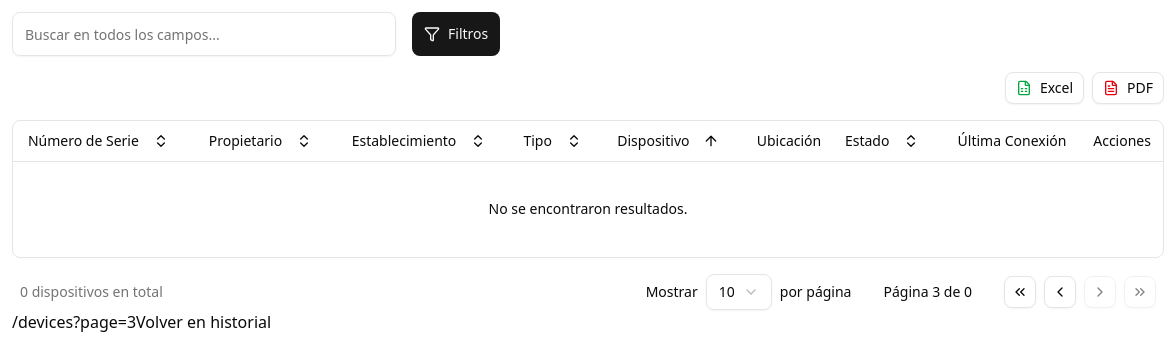
Scenario: DevicesTable responsive contract › sorts Tipo in user mode
What coordinates should you click on to do the following:
click the button "Tipo"
I would click on:
 (553, 141)
Its box is [514, 125, 592, 157].
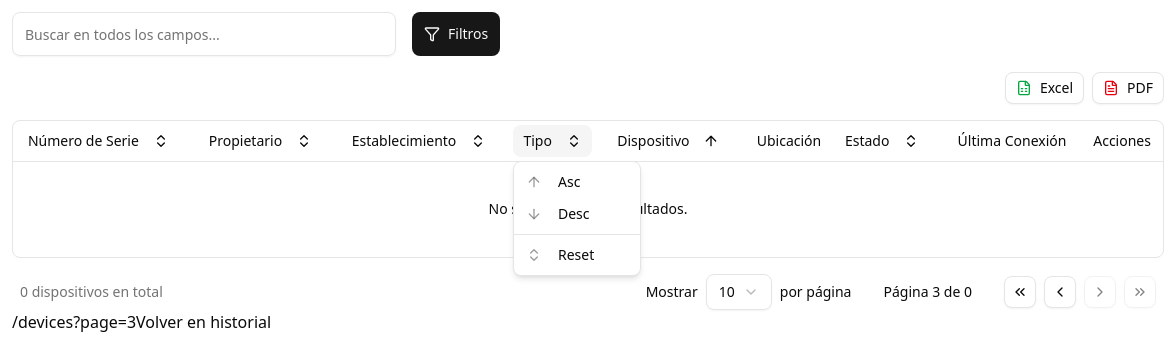
What coordinates should you click on to do the following:
click the menu item "Asc"
I would click on:
 (534, 182)
Its box is [526, 172, 580, 191].
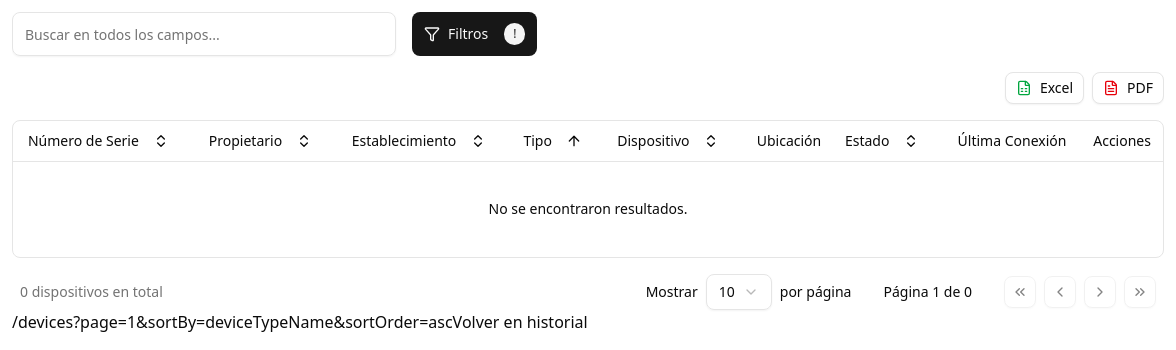
Expected: the text with test id "location" shows "sortBy=deviceTypeName", [73, 311, 453, 333]
Expected: the text with test id "location" shows "page=1", [73, 311, 453, 333]
